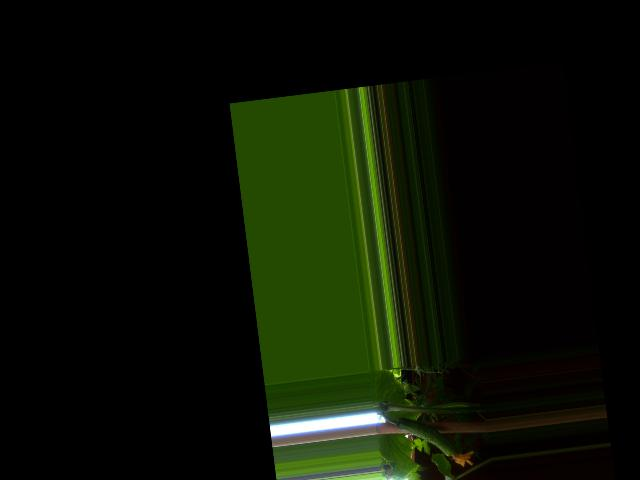cucumber: (396, 409, 475, 475)
